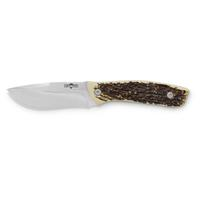knife: (2, 73, 195, 121)
